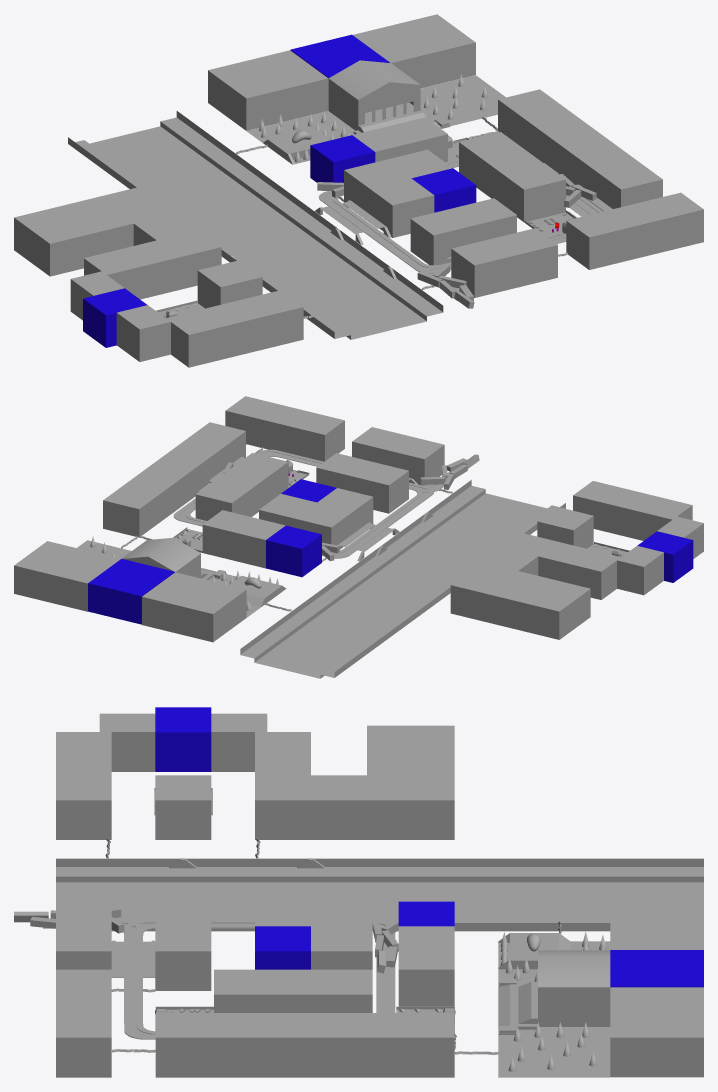
Rendered from GrayBox.fbx.
3 views of the same model, one above another, from view 1: azimuth 30°, elevation 25°; view 2: azimuth 150°, elevation 25°; view 3: azimuth 270°, elevation 25° (orthographic). The views are drawn at different scales.
Visible parts, largest first — view 1: pCube75, pCube122, pCube51, pCube45, pCube37, pCube46, pCube42, pPlane20, pCube128, pCube70, pCube58, pCube103 (+23 smaller); view 2: pCube75, pCube122, pCube51, pCube45, pCube37, pCube42, pCube129, pCube46, pCube70, pCube128, pCube69, pCube111 (+20 smaller); view 3: pCube75, pCube51, pCube122, pCube37, pCube45, pPlane20, pCube111, pCube42, pCube70, pCube46, pCube87, pCube96 (+25 smaller).
Boxes of the visible parts, x1,y1,x2,y2 form: pCube75: (68, 111, 443, 339); pCube122: (208, 14, 475, 130); pCube51: (498, 89, 662, 208); pCube45: (566, 192, 703, 269); pCube37: (459, 132, 565, 221); pCube46: (451, 228, 557, 297); pCube42: (410, 198, 516, 265); pPlane20: (246, 75, 505, 164); pCube128: (14, 207, 91, 276); pCube70: (352, 117, 447, 162); pCube58: (369, 178, 434, 237); pCube103: (116, 305, 170, 361); pCube75: (240, 480, 565, 678); pCube122: (14, 541, 246, 642); pCube51: (103, 422, 245, 537); pCube45: (225, 396, 344, 461); pCube37: (195, 453, 288, 520); pCube42: (316, 453, 408, 513); pCube129: (88, 558, 174, 624); pCube46: (352, 427, 444, 485); pCube70: (202, 510, 285, 568); pCube128: (523, 580, 590, 639); pCube69: (266, 525, 321, 577); pCube111: (450, 562, 517, 622); pCube75: (56, 858, 703, 931); pCube51: (155, 1013, 454, 1077); pCube122: (610, 901, 703, 1077); pCube37: (214, 969, 372, 1012); pCube45: (56, 969, 111, 1077); pPlane20: (498, 941, 610, 1077); pCube111: (367, 775, 454, 839); pCube42: (155, 901, 211, 990); pCube70: (398, 926, 454, 1006); pCube46: (56, 901, 111, 969); pCube87: (155, 775, 211, 839); pCube96: (155, 707, 211, 771).
Bounding box in the file's own units: 333 × 31.34 × 294.
